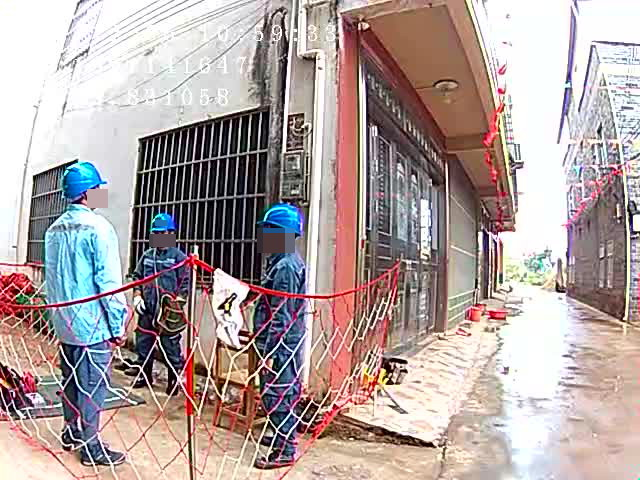downsuit: (59, 345, 113, 455), (133, 288, 186, 367), (259, 359, 302, 441)
halt: (61, 161, 108, 209), (257, 203, 304, 250), (149, 212, 180, 247)
hand: (255, 351, 278, 377)
inear: (265, 228, 283, 245), (83, 191, 100, 208)
person: (41, 159, 122, 463), (232, 202, 313, 459), (129, 210, 214, 391)
shoe: (130, 358, 155, 388), (164, 367, 181, 397)
upsuit: (45, 211, 111, 334), (256, 259, 304, 344), (137, 244, 203, 293)
wglove: (133, 294, 146, 316)
